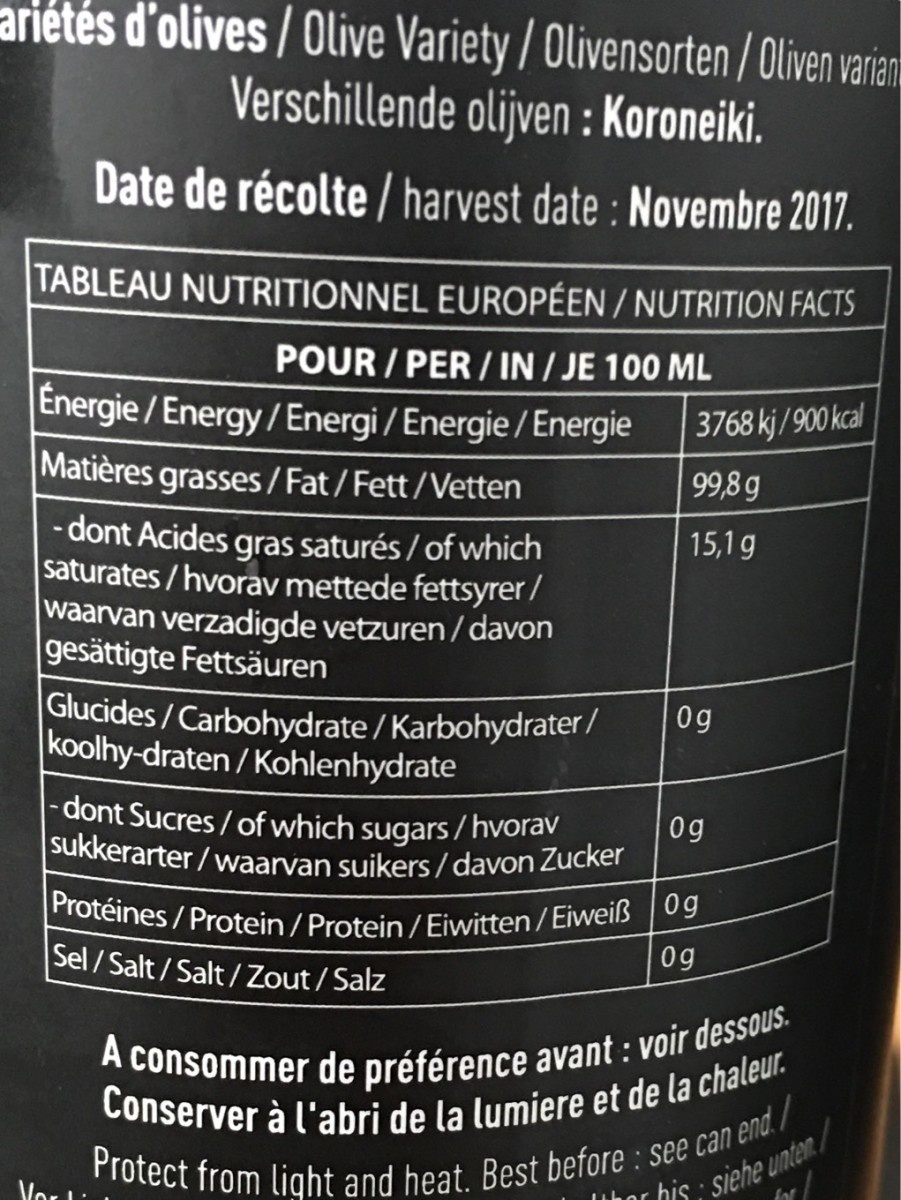column: (43, 384, 645, 995), (662, 403, 862, 975)
table: (25, 239, 894, 1006)
